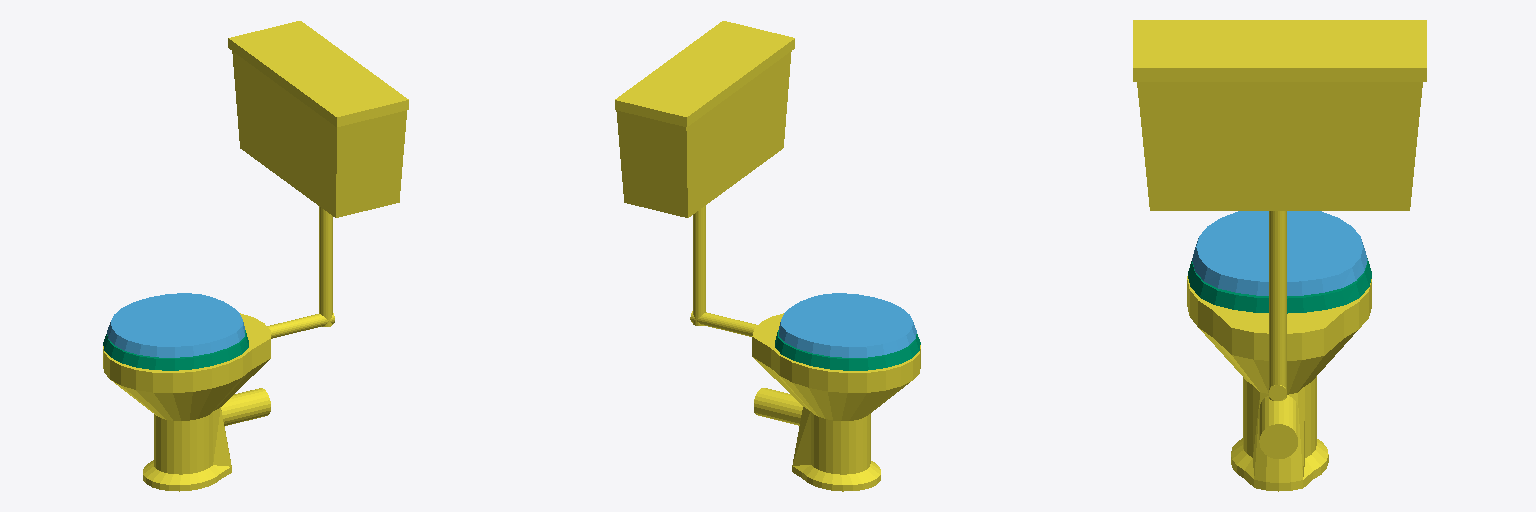
The robot description file, URDF, robot "partnet_4c0869dbabf735354961d5c01481d4d8":
<robot name="partnet_4c0869dbabf735354961d5c01481d4d8">
	<link name="base" />
	<link name="link_0">
		<collision>
			<origin xyz="0 0.30022909244912205 -0.06614156603580358" />
			<geometry>
				<mesh filename="new_objs/102634_link_0_0.obj" />
			</geometry>
		</collision>
	<visual name="lid-part[&quot;id]">
			<origin xyz="0 0.30022909244912205 -0.06614156603580358" />
			<geometry>
				<mesh filename="textured_objs/original-3.obj" />
			</geometry>
		</visual>
		</link>
	<joint name="joint_0" type="revolute">
		<origin xyz="0 -0.30022909244912205 0.06614156603580358" />
		<axis xyz="-1 0 0" />
		<child link="link_0" />
		<parent link="link_2" />
		<limit lower="-0.0" upper="1.6929693744344996" />
	</joint>
	<link name="link_1">
		<collision>
			<origin xyz="0 0.30022909244912205 -0.06614156603580358" />
			<geometry>
				<mesh filename="new_objs/102634_link_1_1.obj" />
			</geometry>
		</collision>
	<collision>
			<origin xyz="0 0.30022909244912205 -0.06614156603580358" />
			<geometry>
				<mesh filename="new_objs/102634_link_1_3.obj" />
			</geometry>
		</collision>
	<collision>
			<origin xyz="0 0.30022909244912205 -0.06614156603580358" />
			<geometry>
				<mesh filename="new_objs/102634_link_1_7.obj" />
			</geometry>
		</collision>
	<collision>
			<origin xyz="0 0.30022909244912205 -0.06614156603580358" />
			<geometry>
				<mesh filename="new_objs/102634_link_1_4.obj" />
			</geometry>
		</collision>
	<collision>
			<origin xyz="0 0.30022909244912205 -0.06614156603580358" />
			<geometry>
				<mesh filename="new_objs/102634_link_1_6.obj" />
			</geometry>
		</collision>
	<collision>
			<origin xyz="0 0.30022909244912205 -0.06614156603580358" />
			<geometry>
				<mesh filename="new_objs/102634_link_1_5.obj" />
			</geometry>
		</collision>
	<collision>
			<origin xyz="0 0.30022909244912205 -0.06614156603580358" />
			<geometry>
				<mesh filename="new_objs/102634_link_1_2.obj" />
			</geometry>
		</collision>
	<collision>
			<origin xyz="0 0.30022909244912205 -0.06614156603580358" />
			<geometry>
				<mesh filename="new_objs/102634_link_1_0.obj" />
			</geometry>
		</collision>
	<visual name="seat-part[&quot;id]">
			<origin xyz="0 0.30022909244912205 -0.06614156603580358" />
			<geometry>
				<mesh filename="textured_objs/original-4.obj" />
			</geometry>
		</visual>
		</link>
	<joint name="joint_1" type="revolute">
		<origin xyz="0 -0.30022909244912205 0.06614156603580358" />
		<axis xyz="-1 0 0" />
		<child link="link_1" />
		<parent link="link_2" />
		<limit lower="-0.0" upper="1.6929693744344996" />
	</joint>
	<link name="link_2">
		<collision>
			<origin xyz="0 0 0" />
			<geometry>
				<mesh filename="new_objs/102634_link_2_4.obj" />
			</geometry>
		</collision>
		<collision>
			<origin xyz="0 0 0" />
			<geometry>
				<mesh filename="new_objs/102634_link_2_6.obj" />
			</geometry>
		</collision>
		<collision>
			<origin xyz="0 0 0" />
			<geometry>
				<mesh filename="new_objs/102634_link_2_2.obj" />
			</geometry>
		</collision>
		<collision>
			<origin xyz="0 0 0" />
			<geometry>
				<mesh filename="new_objs/102634_link_2_3.obj" />
			</geometry>
		</collision>
		<collision>
			<origin xyz="0 0 0" />
			<geometry>
				<mesh filename="new_objs/102634_link_2_1.obj" />
			</geometry>
		</collision>
		<collision>
			<origin xyz="0 0 0" />
			<geometry>
				<mesh filename="new_objs/102634_link_2_0.obj" />
			</geometry>
		</collision>
		<collision>
			<origin xyz="0 0 0" />
			<geometry>
				<mesh filename="new_objs/102634_link_2_5.obj" />
			</geometry>
		</collision>
		<visual name="base_body-part[&quot;id]">
			<origin xyz="0 0 0" />
			<geometry>
				<mesh filename="textured_objs/original-2.obj" />
			</geometry>
		</visual>
		<visual name="base_body-part[&quot;id]">
			<origin xyz="0 0 0" />
			<geometry>
				<mesh filename="textured_objs/original-5.obj" />
			</geometry>
		</visual>
		<visual name="base_body-part[&quot;id]">
			<origin xyz="0 0 0" />
			<geometry>
				<mesh filename="textured_objs/original-1.obj" />
			</geometry>
		</visual>
		</link>
	<joint name="joint_2" type="fixed">
		<origin rpy="1.570796326794897 0 -1.570796326794897" xyz="0 0 0" />
		<child link="link_2" />
		<parent link="base" />
	</joint>
</robot>

--- Render facts (derived) ---
Views: 3 orthographic renders of the robot side by side, from view 1: azimuth 30°, elevation 25°; view 2: azimuth 150°, elevation 25°; view 3: azimuth 270°, elevation 25°.
Model partnet_4c0869dbabf735354961d5c01481d4d8 with 4 links and 3 joints (2 revolute, 1 fixed), rooted at base, posed every joint at zero.
Links seen in each view (by area): view 1: link_2, link_0, link_1; view 2: link_2, link_0, link_1; view 3: link_2, link_0, link_1.
Link boxes in pixels (x1,y1,x2,y2): link_2: (103, 21, 408, 491); link_0: (107, 293, 244, 357); link_1: (103, 330, 248, 370); link_2: (615, 21, 920, 491); link_0: (779, 293, 916, 357); link_1: (775, 330, 920, 370); link_2: (1133, 20, 1426, 491); link_0: (1192, 211, 1367, 295); link_1: (1188, 258, 1371, 313).
Size in the robot's own frame: 1.13 by 0.8699 by 1.65 metres.
Meshes: 5 distinct files referenced, 5 mesh visuals loaded (5 OBJ).
